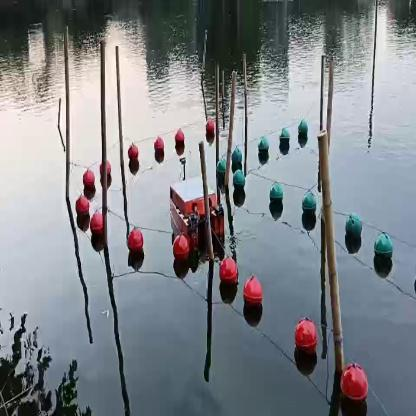green_buoy: (373, 233, 396, 270), (344, 210, 363, 249), (269, 180, 284, 210), (302, 192, 318, 218), (296, 122, 309, 150), (233, 166, 245, 196), (257, 138, 269, 162), (278, 125, 288, 152), (217, 158, 226, 182), (233, 148, 241, 166)
red_buoy: (336, 356, 372, 414), (92, 210, 112, 256), (220, 252, 240, 296), (297, 321, 317, 360), (244, 273, 262, 316), (130, 230, 149, 264), (74, 191, 88, 223), (176, 236, 190, 268), (81, 168, 96, 191), (129, 142, 138, 168), (154, 136, 164, 159), (204, 118, 213, 142), (176, 127, 184, 147)
